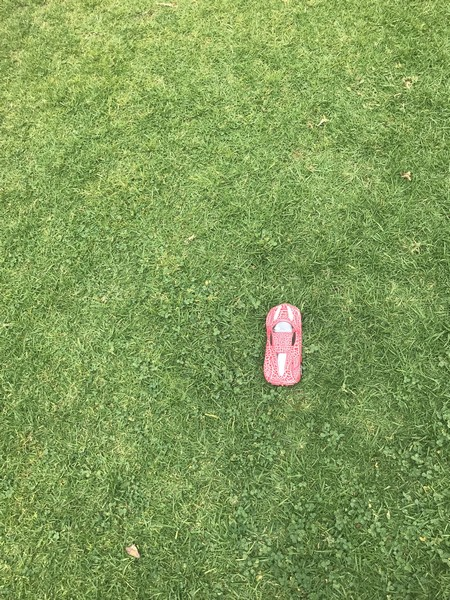RC: (261, 302, 306, 387)
